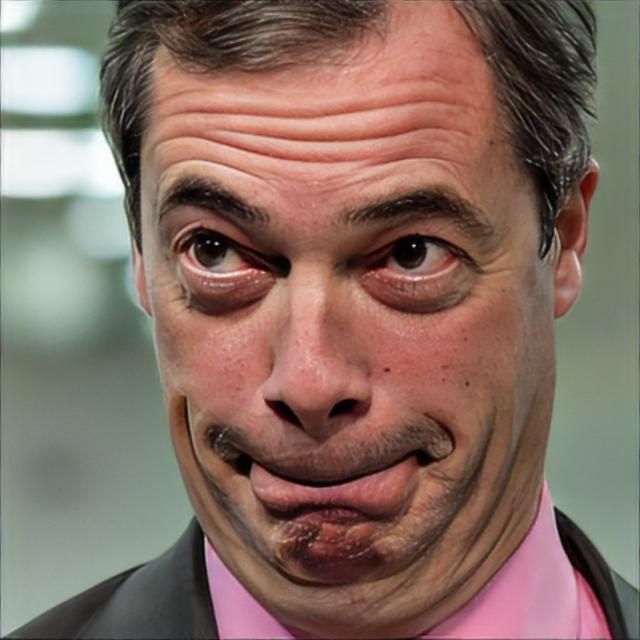surprise: (138, 0, 556, 586)
